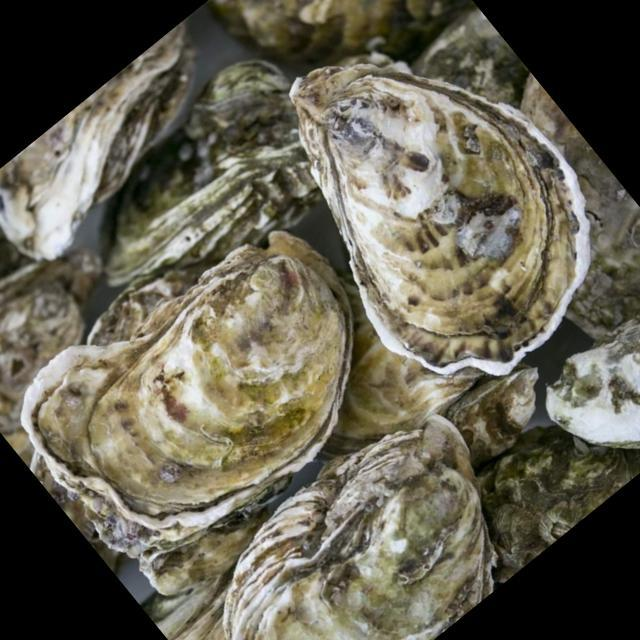Oyster- Indeterminate: (215, 0, 640, 424), (0, 185, 415, 591), (143, 385, 551, 640), (526, 262, 640, 496)
Oyster-Closed: (0, 23, 244, 274)
